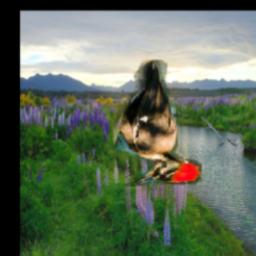Woodpecker: (111, 61, 202, 187)
